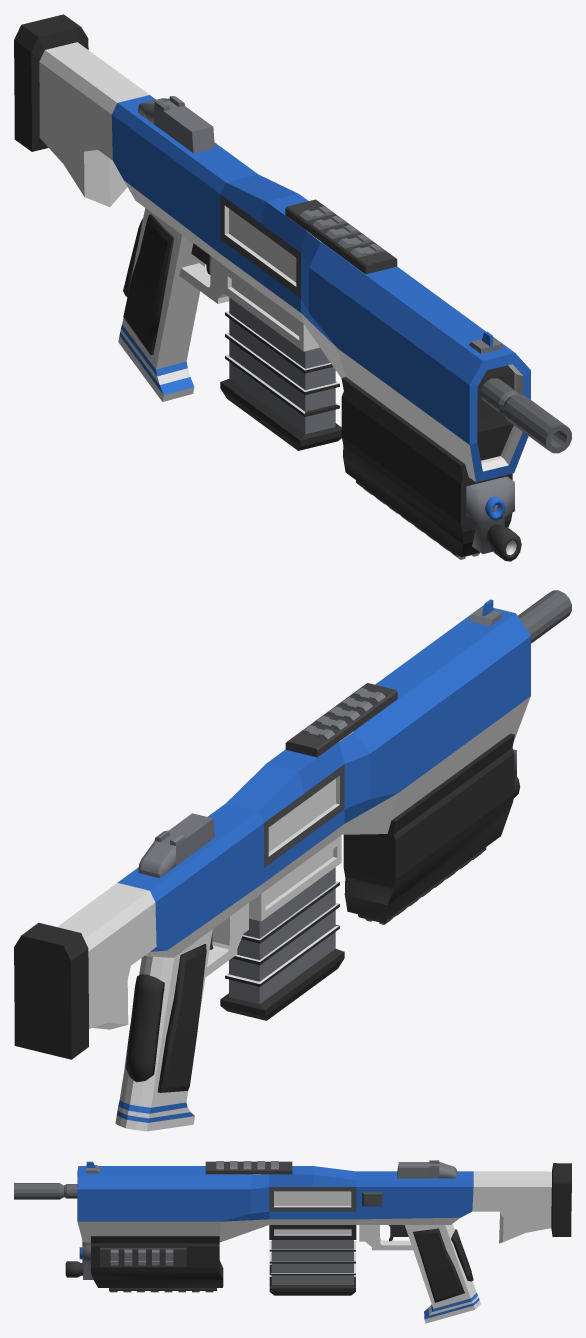
File: RiflePrototype.fbx
3 renders of one model, top to bottom at view 1: azimuth 30°, elevation 25°; view 2: azimuth 150°, elevation 25°; view 3: azimuth 270°, elevation 25°, orthographic. The views are drawn at different scales.
Visible parts, largest first — view 1: MP4-11; view 2: MP4-11; view 3: MP4-11.
Part boxes in pixels (bbox=[...]): MP4-11: bbox=[14, 14, 571, 561]; MP4-11: bbox=[14, 590, 571, 1131]; MP4-11: bbox=[14, 1160, 571, 1323].
Size of the model in its own units: 11.26 by 50.64 by 163.
